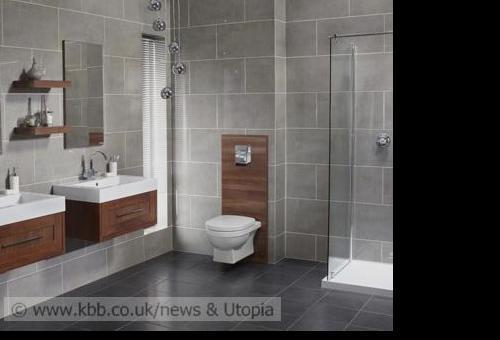Ducha: (325, 32, 392, 301)
Lavamanos: (60, 151, 151, 204), (0, 166, 64, 221)
Sanitario: (206, 201, 259, 269)
